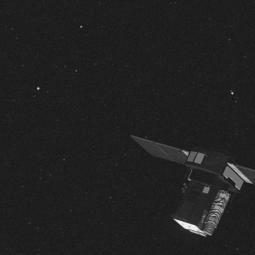soho: (132, 149, 255, 246)
